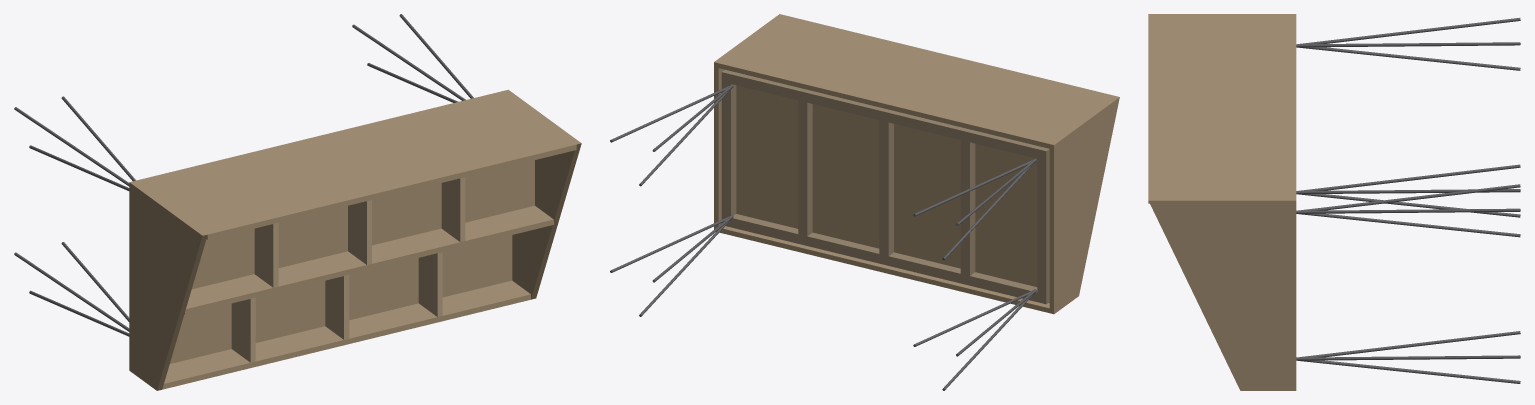
File: vinyl_record_storage.glb
The picture shows the model from 3 angles, left to right: view 1: azimuth 30°, elevation 25°; view 2: azimuth 150°, elevation 25°; view 3: azimuth 270°, elevation 25°; orthographic projection. The views are drawn at different scales.
Visible parts, largest first — view 1: back, bottom, back_shelf_bottom, side_left, shelf_divider, front, side_right, front_divider_2, back_divider_3, back_divider_1, front_divider_1, front_divider_3 (+4 smaller); view 2: bottom, back, side_left, frame_front, frame_back, front, frame_right, frame_left, frame_cross_3, frame_cross_2, frame_cross_1, side_right (+4 smaller); view 3: back, side_right, leg_back_right, leg_front_right, leg_back_left, leg_front_left, side_left.
Boxes of the visible parts, x1,y1,x2,y2 form: back: (135,91,576,239); bottom: (170,235,512,363); back_shelf_bottom: (192,160,534,289); side_left: (129,181,207,390); shelf_divider: (184,206,553,314); front: (162,280,530,389); side_right: (504,89,581,299); front_divider_2: (325,275,349,339); back_divider_3: (441,177,465,242); back_divider_1: (254,222,278,287); front_divider_1: (231,297,255,362); front_divider_3: (418,252,442,316); bottom: (724,69,1049,302); back: (718,15,1114,148); side_left: (1049,96,1119,314); frame_front: (731,214,1037,301); frame_back: (731,72,1039,158); front: (719,226,1049,312); frame_right: (721,69,736,227); frame_left: (1037,146,1049,304); frame_cross_3: (798,100,812,236); frame_cross_2: (879,120,893,255); frame_cross_1: (960,140,975,275); side_right: (714,14,783,231); back: (1148,16,1296,203); side_right: (1148,198,1296,390); leg_back_right: (1296,184,1520,237); leg_front_right: (1296,331,1520,383); leg_back_left: (1296,18,1520,70); leg_front_left: (1296,164,1520,217); side_left: (1148,14,1296,16).
Bounding box in the file's own units: 56.58 × 27.25 × 46.53.
